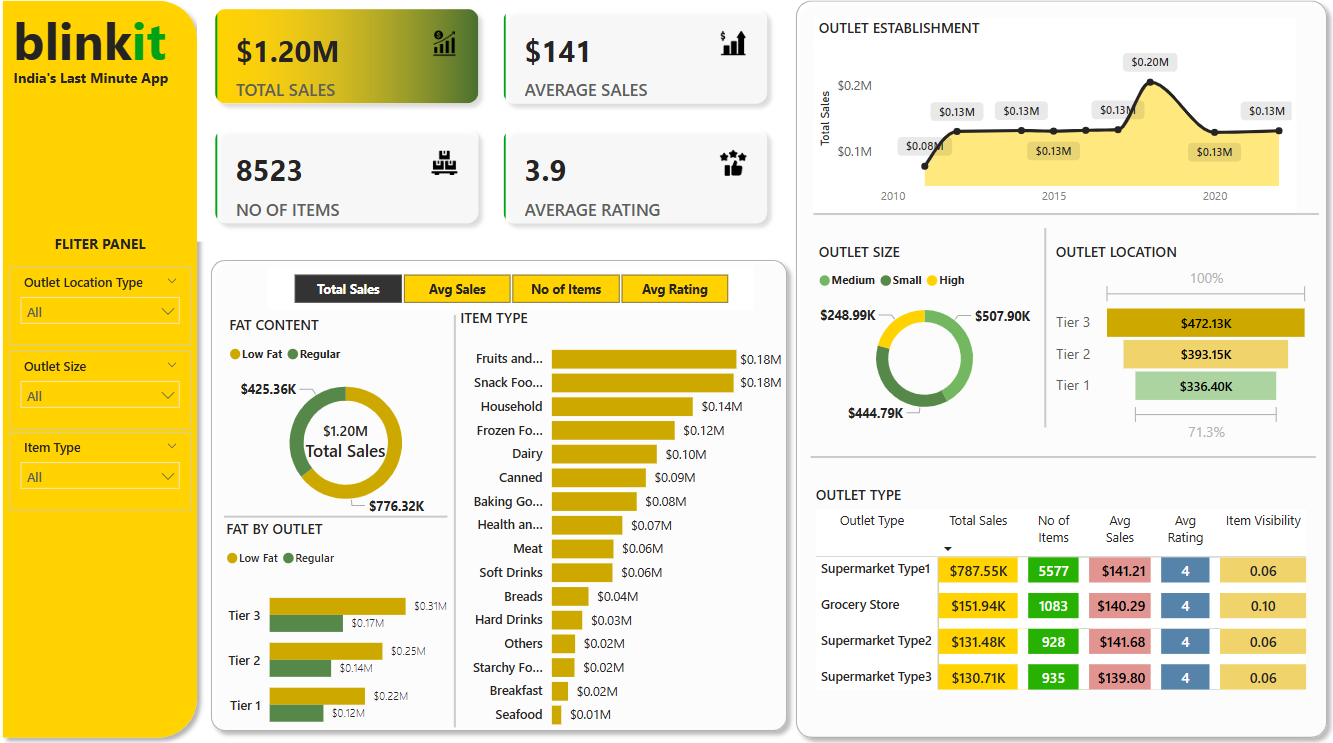

The page's visual inventory and layout, read from the dashboard file:
{"tool":"powerbi","page":{"name":"Page 1","canvas":[1280,720],"ordinal":0},"visuals":[{"type":"shape","box":[0,0,203.4,720.3],"z":0},{"type":"textbox","box":[0,8.6,184.3,78.6],"z":1000},{"type":"textbox","box":[14.3,67.1,172.9,40],"z":2000},{"type":"cardVisual","fields":{"Data":["BlinkIT Grocery Data.Total Sales","BlinkIT Grocery Data.Avg Sales","BlinkIT Grocery Data.No of Items","BlinkIT Grocery Data.Avg Rating"]},"box":[194.9,0,561,239],"z":3000},{"type":"shape","box":[198.3,246.7,566.7,466.7],"z":4000},{"type":"donutChart","title":"FAT CONTENT","fields":{"Y":["BlinkIT Grocery Data.Total Sales"],"Category":["BlinkIT Grocery Data.Item Fat Content"]},"box":[220,308.6,231.4,198.6],"z":5000},{"type":"slicer","fields":{"Values":["Metrics.Metrics"]},"box":[261,262.7,462.7,40.7],"z":6000},{"type":"cardVisual","fields":{"Data":["BlinkIT Grocery Data.Total Sales"]},"box":[280,390,111.4,77.1],"z":7000},{"type":"clusteredBarChart","title":"FAT BY OUTLET","fields":{"Y":["BlinkIT Grocery Data.Total Sales"],"Category":["BlinkIT Grocery Data.Outlet Location Type"],"Series":["BlinkIT Grocery Data.Item Fat Content"]},"box":[216.7,503.3,220,216.7],"z":8000},{"type":"shape","box":[220,494.3,212.9,12.9],"z":9000},{"type":"shape","box":[432.9,308.6,14.3,392.9],"z":10000},{"type":"barChart","title":"ITEM TYPE","fields":{"Y":["BlinkIT Grocery Data.Total Sales"],"Category":["BlinkIT Grocery Data.Item Type"]},"box":[440,301.4,315.7,411.4],"z":11000},{"type":"shape","box":[755.9,0,523.7,720.3],"z":12000},{"type":"lineChart","title":"OUTLET ESTABLISHMENT","fields":{"Y":["BlinkIT Grocery Data.Total Sales"],"Category":["BlinkIT Grocery Data.Outlet Establishment Year"]},"box":[781.7,25,460,186.7],"z":13000},{"type":"shape","box":[781.4,205.1,481.4,13.6],"z":14000},{"type":"donutChart","title":"OUTLET SIZE","fields":{"Y":["BlinkIT Grocery Data.Total Sales"],"Category":["BlinkIT Grocery Data.Outlet Size"]},"box":[781.4,239,211.9,178],"z":15000},{"type":"shape","box":[993.2,225.4,18.6,189.8],"z":16000},{"type":"funnel","title":"OUTLET LOCATION","fields":{"Y":["Sum(BlinkIT Grocery Data.Sales)"],"Category":["BlinkIT Grocery Data.Outlet Location Type"]},"box":[1006.8,239,252.5,196.6],"z":17000},{"type":"shape","box":[778,437.3,481.4,13.6],"z":18000},{"type":"pivotTable","title":"OUTLET TYPE","fields":{"Rows":["BlinkIT Grocery Data.Outlet Type"],"Values":["BlinkIT Grocery Data.Total Sales","BlinkIT Grocery Data.No of Items","BlinkIT Grocery Data.Avg Sales","BlinkIT Grocery Data.Avg Rating","Avg(BlinkIT Grocery Data.Item Visibility)"]},"box":[778,469.5,481.4,250.8],"z":19000},{"type":"slicer","fields":{"Values":["BlinkIT Grocery Data.Outlet Location Type"]},"box":[15.3,262.7,172.9,74.6],"z":19001},{"type":"slicer","fields":{"Values":["BlinkIT Grocery Data.Outlet Size"]},"box":[15.3,342.4,172.9,74.6],"z":19002},{"type":"slicer","fields":{"Values":["BlinkIT Grocery Data.Item Type"]},"box":[15.3,420.3,172.9,74.6],"z":19003},{"type":"textbox","box":[13.6,225.4,178,37.3],"z":19004}]}

Visuals, with their boxes in screenshot pixels (x1, y1, x2, y2), scaled from the page's 1280x720 canvas onto the 1333x743 screenshot:
shape: Rect(0, 0, 212, 742)
textbox: Rect(0, 9, 192, 90)
textbox: Rect(15, 69, 195, 111)
cardVisual - BlinkIT Grocery Data.Total Sales x BlinkIT Grocery Data.Avg Sales: Rect(203, 0, 787, 247)
shape: Rect(207, 255, 797, 736)
"FAT CONTENT" donutChart: Rect(229, 318, 470, 523)
slicer - Metrics.Metrics: Rect(272, 271, 754, 313)
cardVisual - BlinkIT Grocery Data.Total Sales: Rect(292, 402, 408, 482)
"FAT BY OUTLET" clusteredBarChart: Rect(226, 519, 455, 742)
shape: Rect(229, 510, 451, 523)
shape: Rect(451, 318, 466, 724)
"ITEM TYPE" barChart: Rect(458, 311, 787, 736)
shape: Rect(787, 0, 1332, 742)
"OUTLET ESTABLISHMENT" lineChart: Rect(814, 26, 1293, 218)
shape: Rect(814, 212, 1315, 226)
"OUTLET SIZE" donutChart: Rect(814, 247, 1034, 430)
shape: Rect(1034, 233, 1054, 428)
"OUTLET LOCATION" funnel: Rect(1048, 247, 1311, 450)
shape: Rect(810, 451, 1312, 465)
"OUTLET TYPE" pivotTable: Rect(810, 484, 1312, 742)
slicer - BlinkIT Grocery Data.Outlet Location Type: Rect(16, 271, 196, 348)
slicer - BlinkIT Grocery Data.Outlet Size: Rect(16, 353, 196, 430)
slicer - BlinkIT Grocery Data.Item Type: Rect(16, 434, 196, 511)
textbox: Rect(14, 233, 200, 271)
